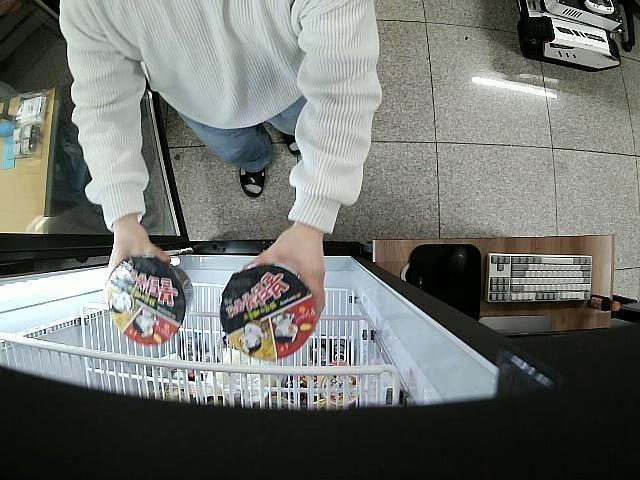07_buldak_L: (220, 268, 316, 361), (106, 258, 192, 346)
